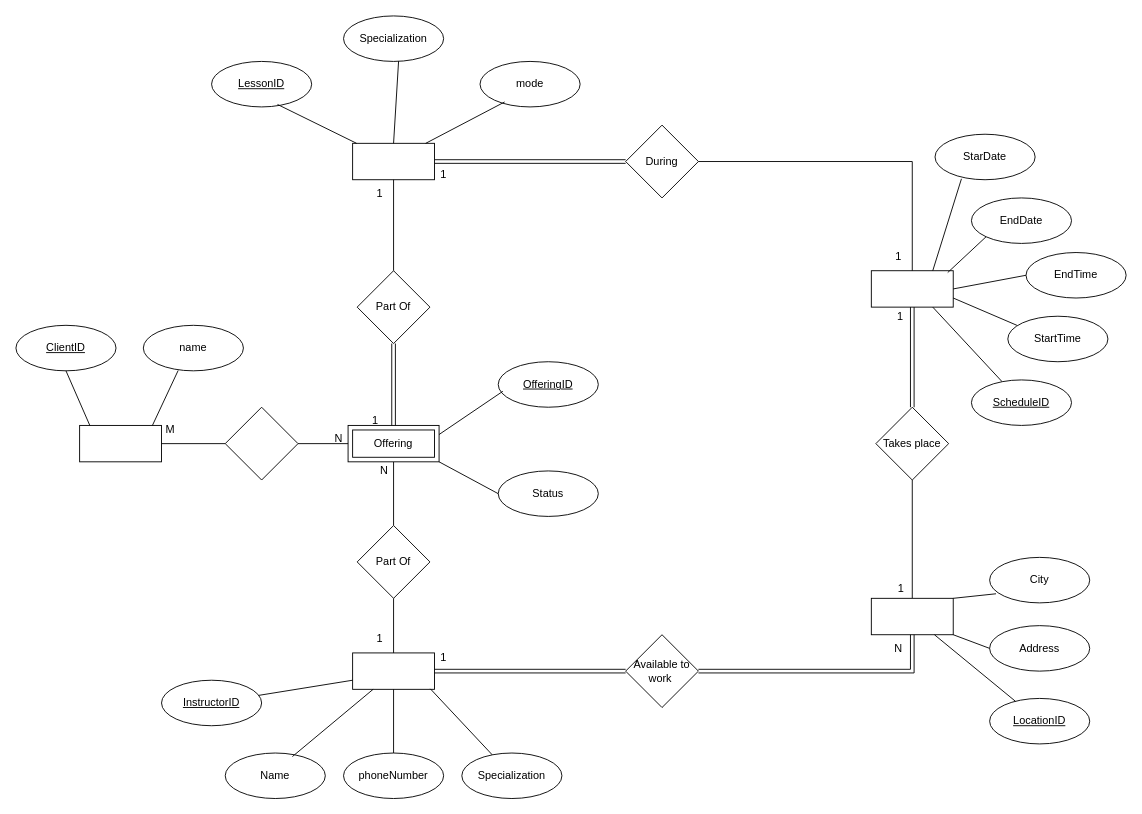
Image size: 1142x814. Some labels were removed from this diagram. The centre of each missing label's shape, as x and y in pixels:
"Books" goes at point (261, 443).
"Client" goes at point (120, 443).
"Instructor" goes at point (393, 670).
"Lesson" goes at point (393, 161).
"Location" goes at point (911, 616).
"Schedule" goes at point (911, 288).
